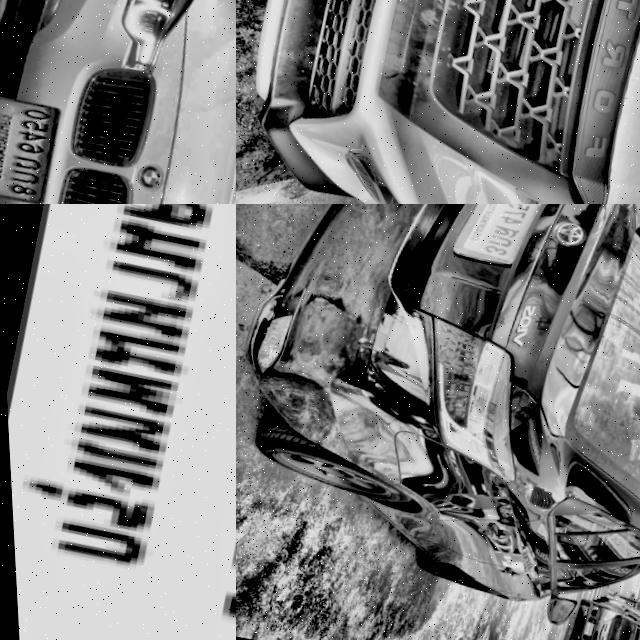license-plate: (0, 204, 236, 640), (444, 204, 551, 276), (0, 90, 67, 204), (574, 620, 591, 640)
